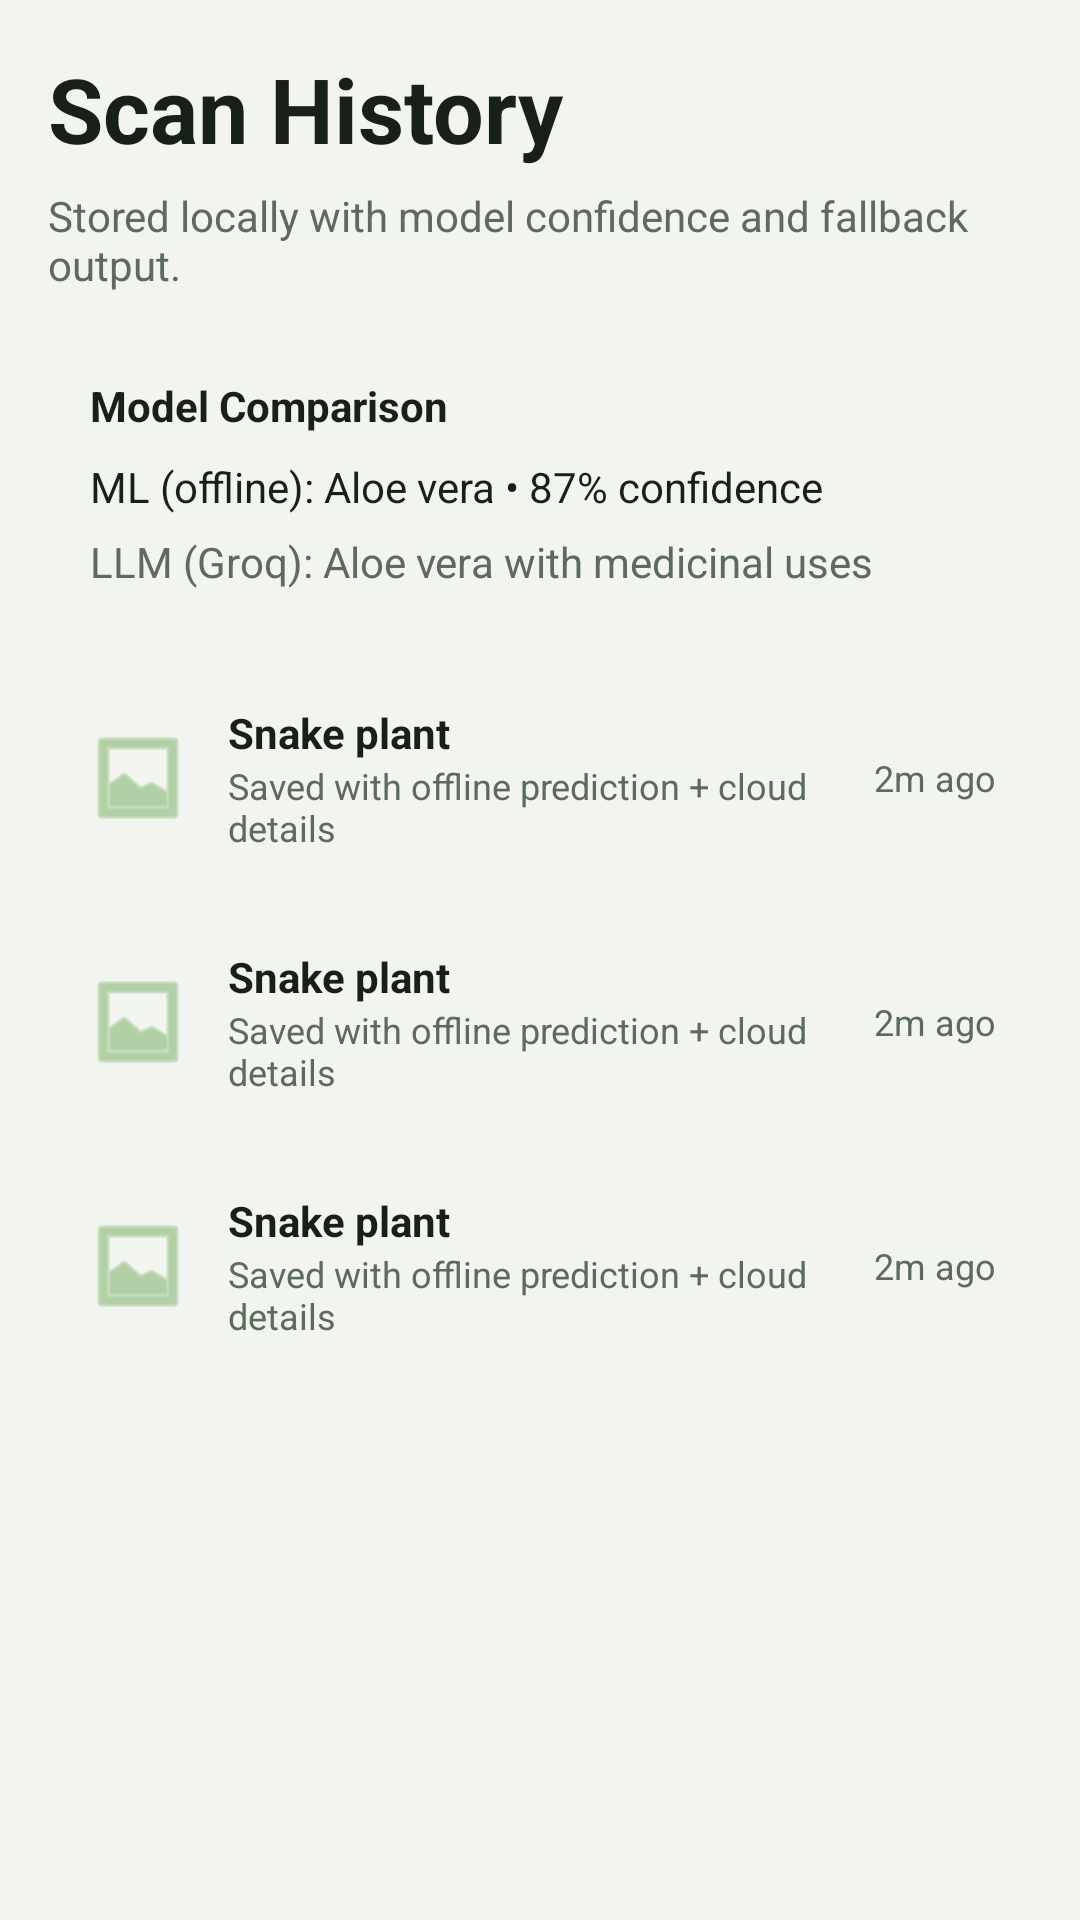

Icons on this 1080×1920 Android screen, each with the point to tap as [x,y]:
gallery: [138,778], [138,1022], [138,1266]
